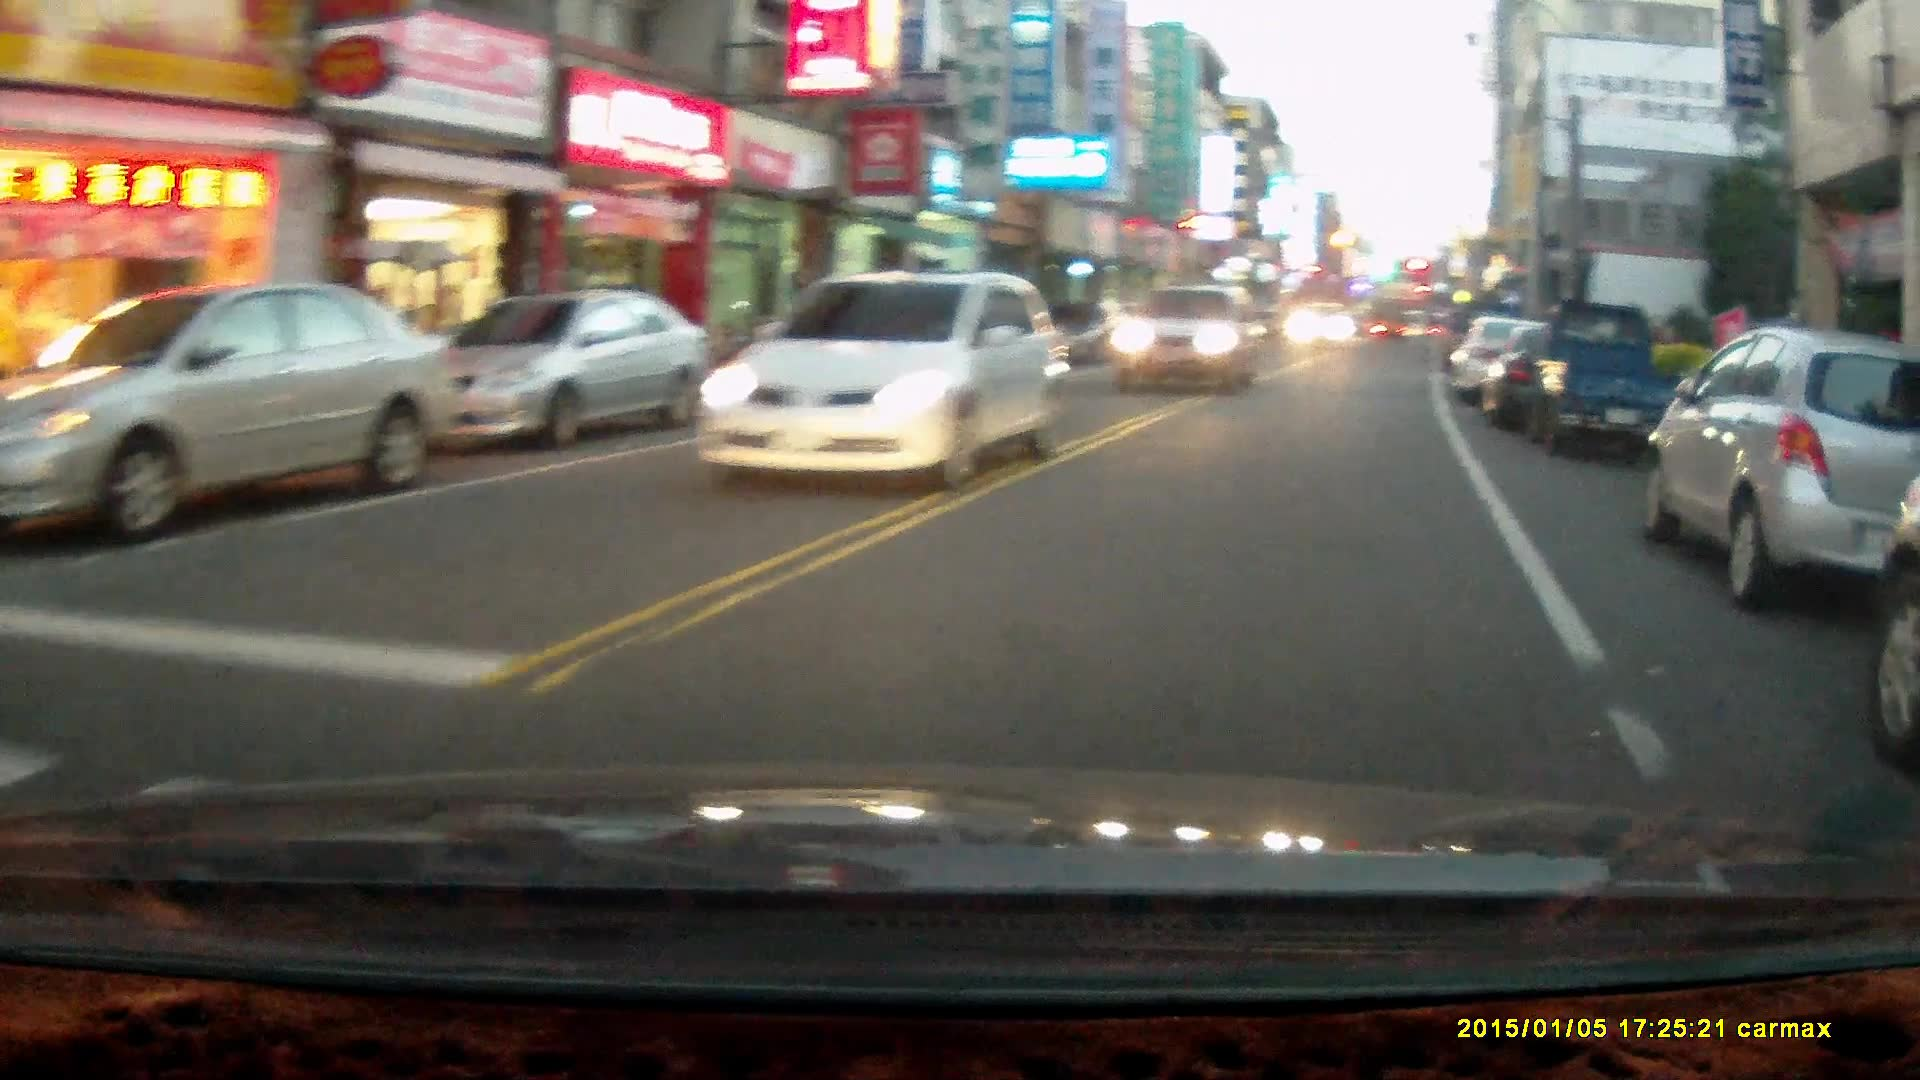vehicle: (7, 287, 476, 545), (1629, 330, 1920, 620), (687, 280, 1065, 502), (405, 291, 709, 456), (1511, 305, 1691, 465), (1110, 287, 1270, 400), (1445, 313, 1586, 411), (1284, 307, 1358, 357)
